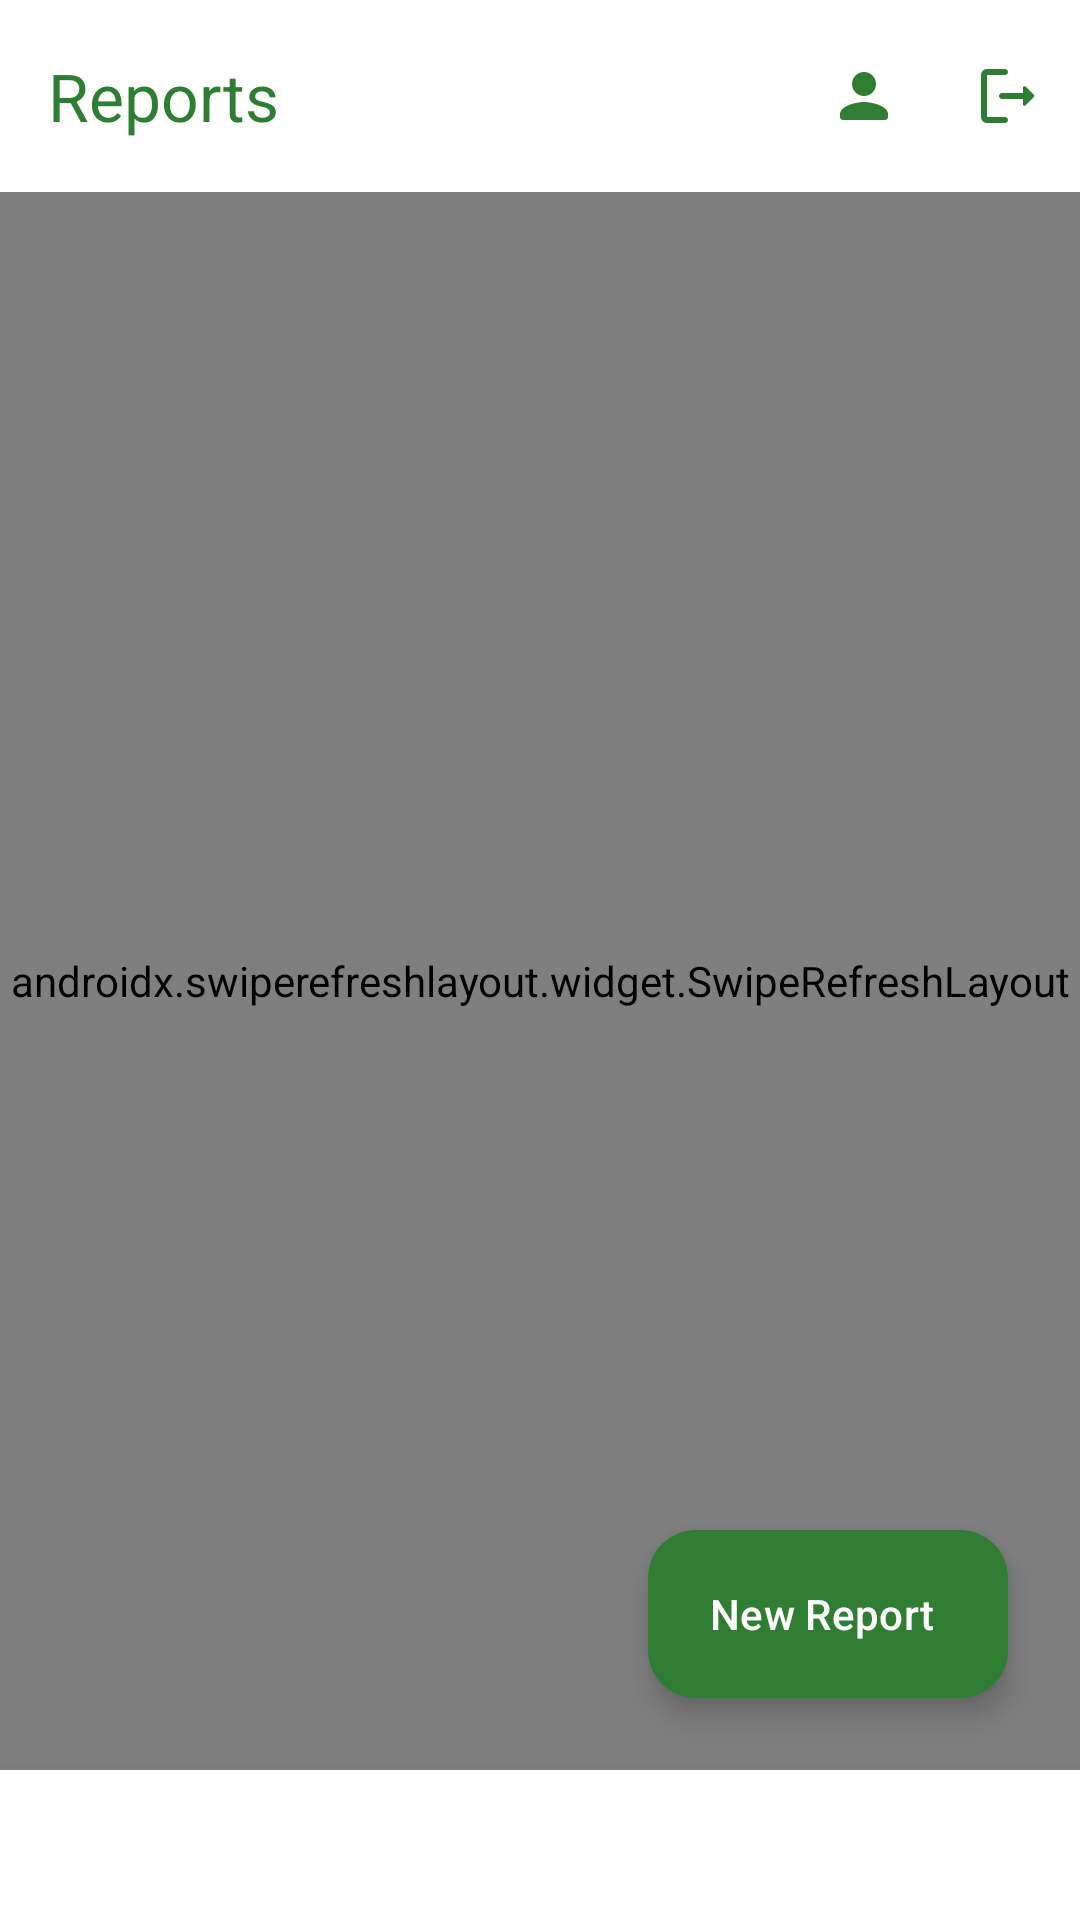

Icons on this 1080 × 1920 Android screen, each with its box as BBox(x1, y1, x2, y2):
person: BBox(840, 72, 888, 120)
